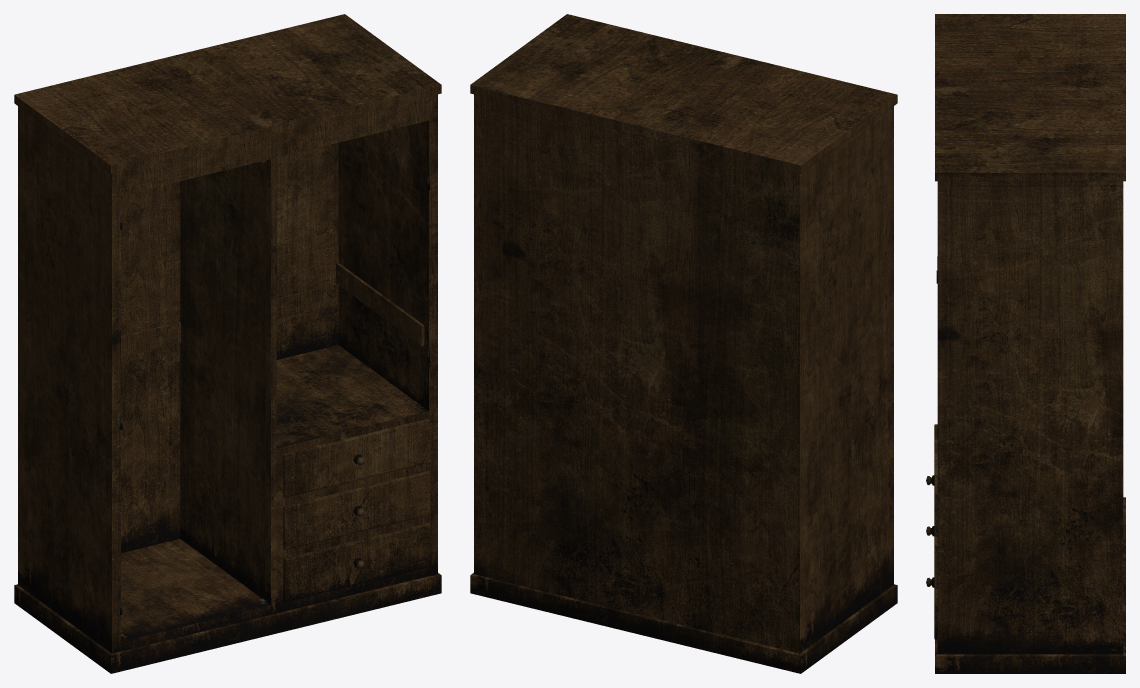
The model's file is closetCarcass01_b.FBX.
3 renders of one model, left to right at view 1: azimuth 30°, elevation 25°; view 2: azimuth 150°, elevation 25°; view 3: azimuth 270°, elevation 25°, orthographic.
Parts seen in each view (by area): view 1: SM_ClosetCarcass01; view 2: SM_ClosetCarcass01; view 3: SM_ClosetCarcass01.
Part boxes in pixels (bbox=[...]): SM_ClosetCarcass01: bbox=[14, 14, 441, 673]; SM_ClosetCarcass01: bbox=[470, 14, 897, 673]; SM_ClosetCarcass01: bbox=[926, 14, 1125, 673].
Size of the model in its own units: 137 by 202 by 72.86.
Materials: 1 (1 with a texture image).
